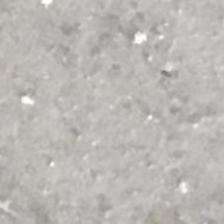Non_Crack: (39, 14, 198, 190)
